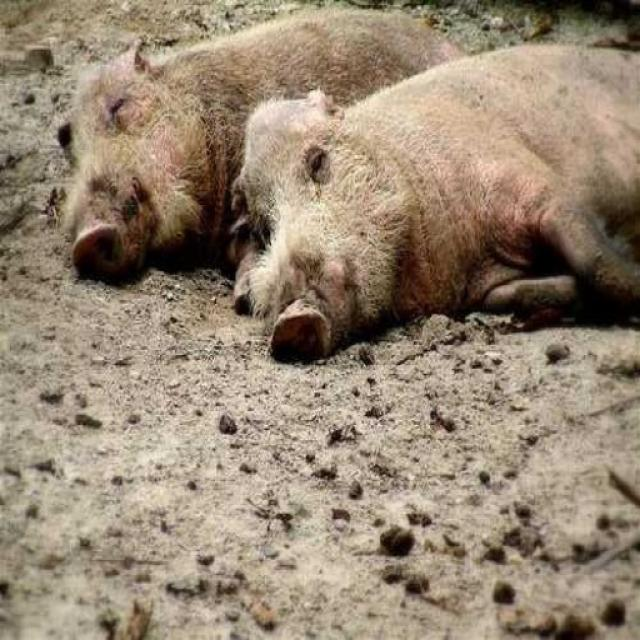pig: (227, 50, 640, 348), (52, 27, 472, 252)
